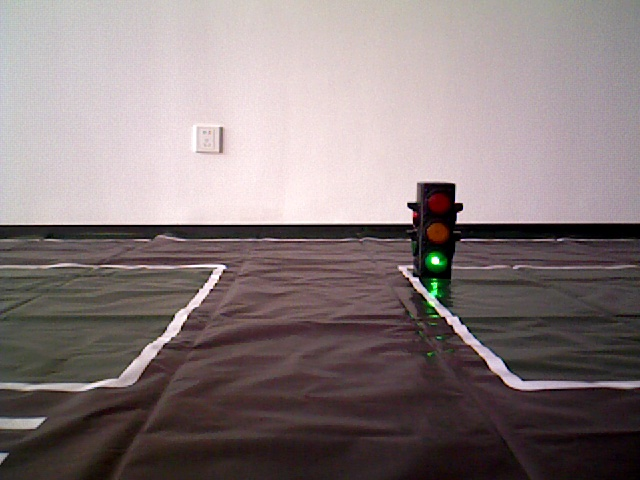green: (417, 182, 453, 271)
